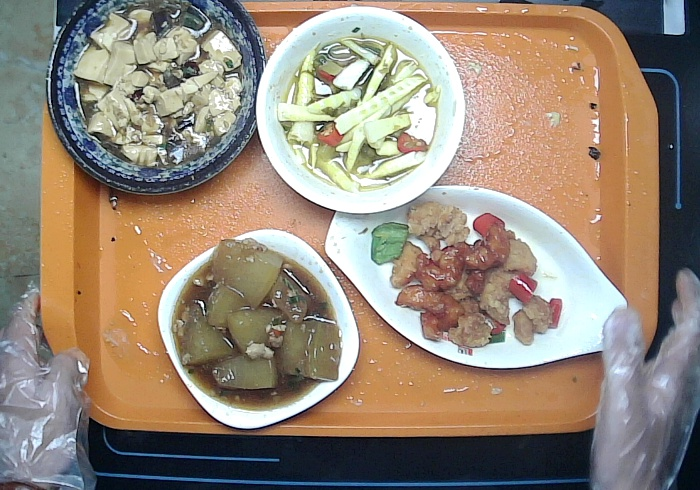ZNLD-Qing_Hua_Wan: (37, 1, 260, 194)
ZNLD-Si_Fang_Wan: (151, 220, 360, 436)
ZNLD-Tang_Wan: (255, 2, 468, 220)
ZNLD-Yu_Pan: (327, 187, 641, 391)
